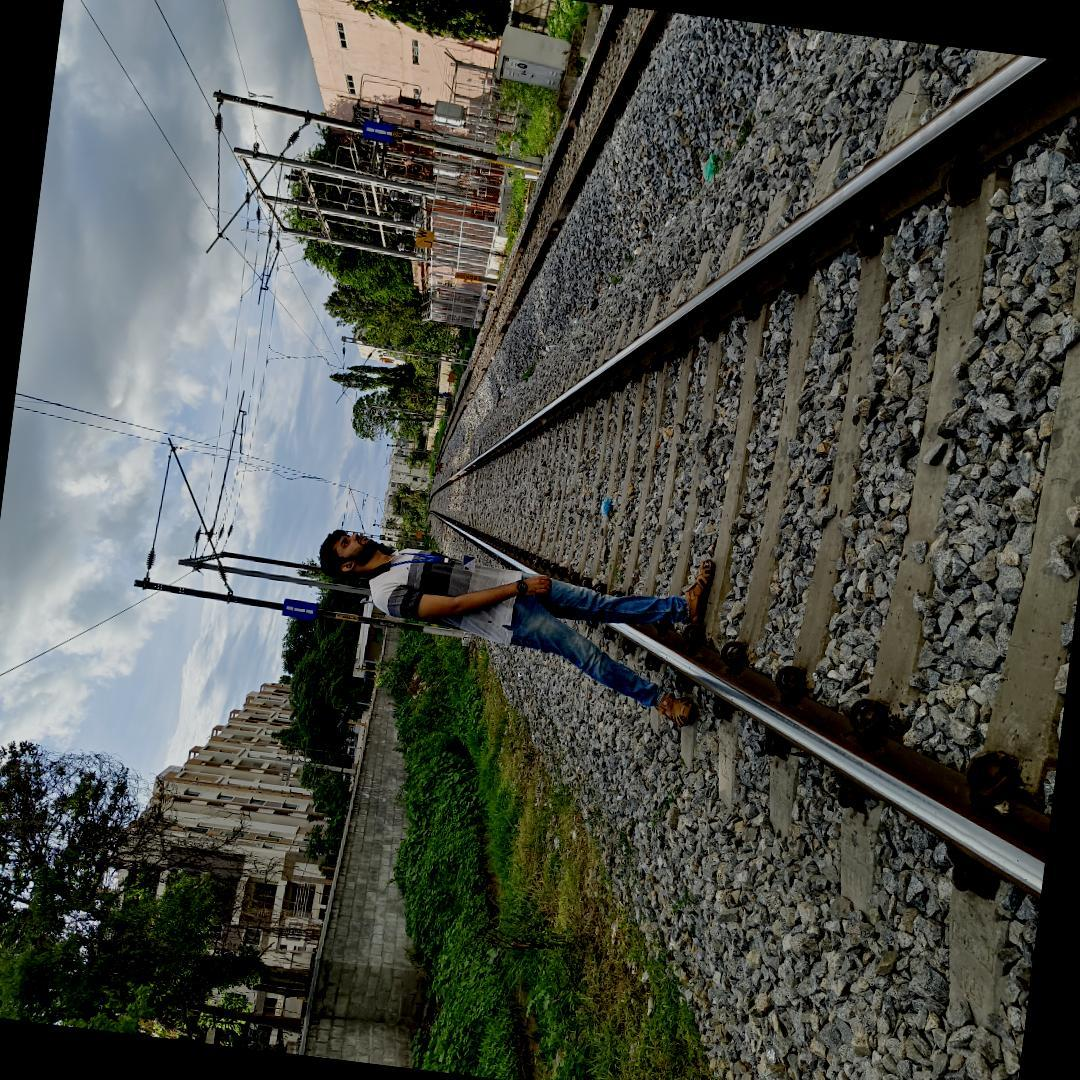standing: (306, 517, 734, 742)
